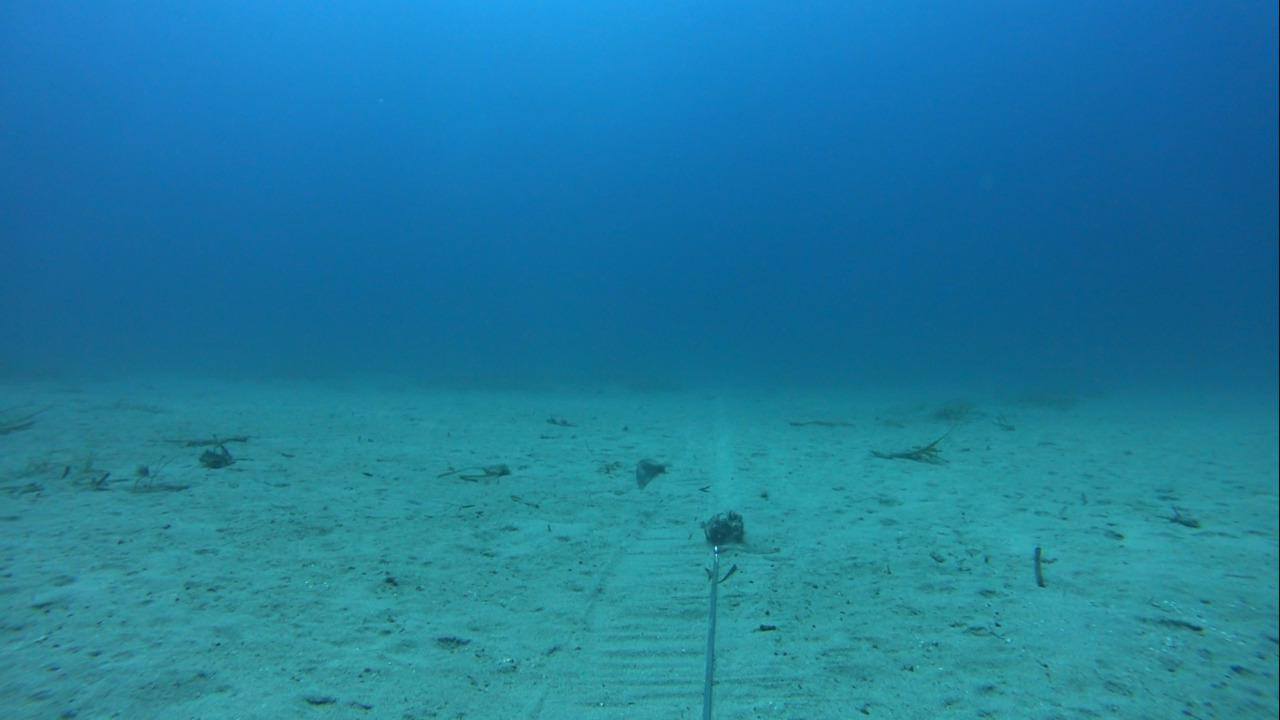raor: (625, 451, 671, 497)
